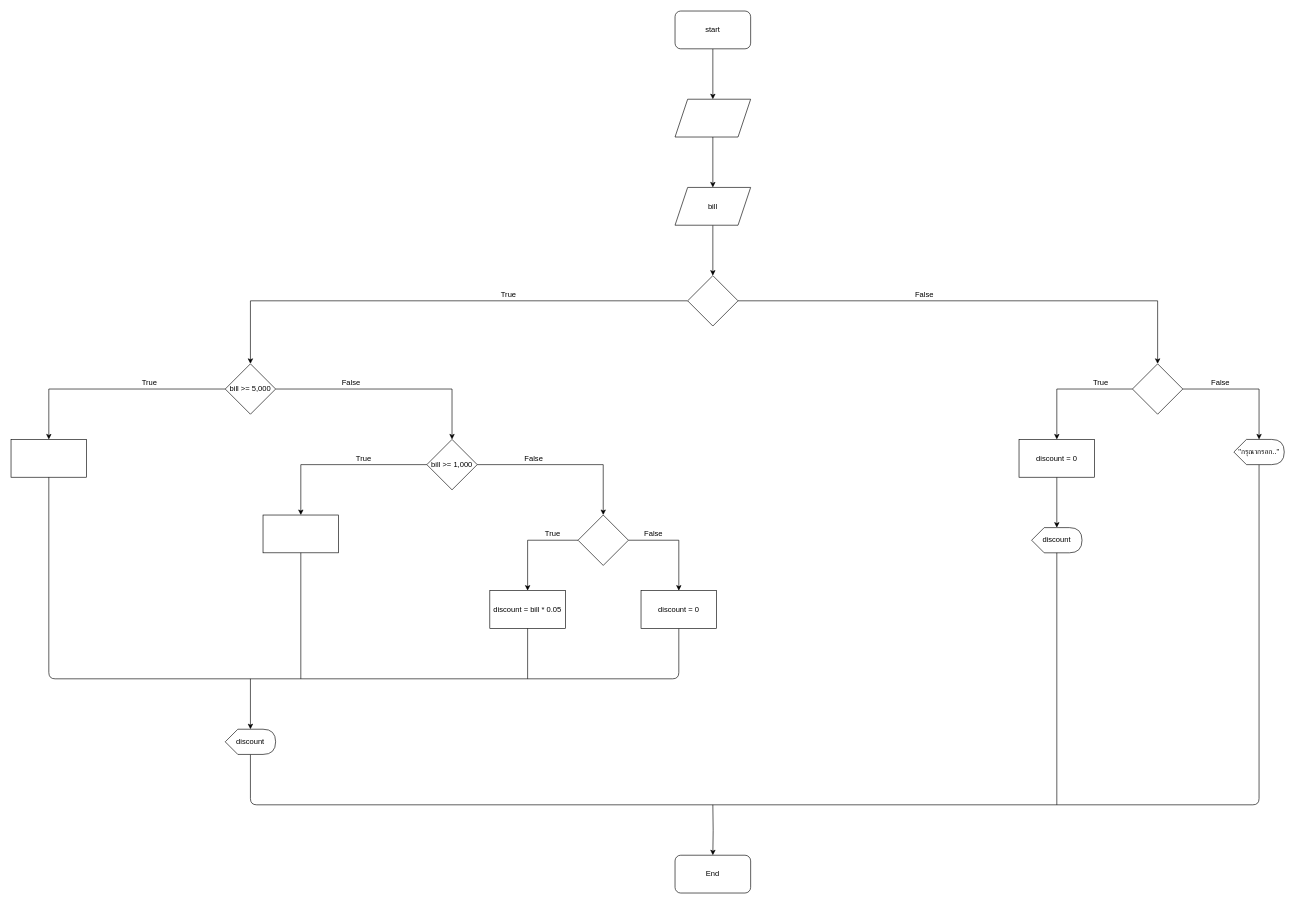
Some shapes in this 1295 by 904 pixel diagram are drawn without their labels. Each missing label, with the centre of its shape:
bill >= 500: pixel 602 539
discount = bill * 0.1: pixel 300 533
discount = bill * 0.15: pixel 48 458
isMember: pixel 712 118
isMember == "no": pixel 1157 388
isMember == "yes": pixel 712 300
